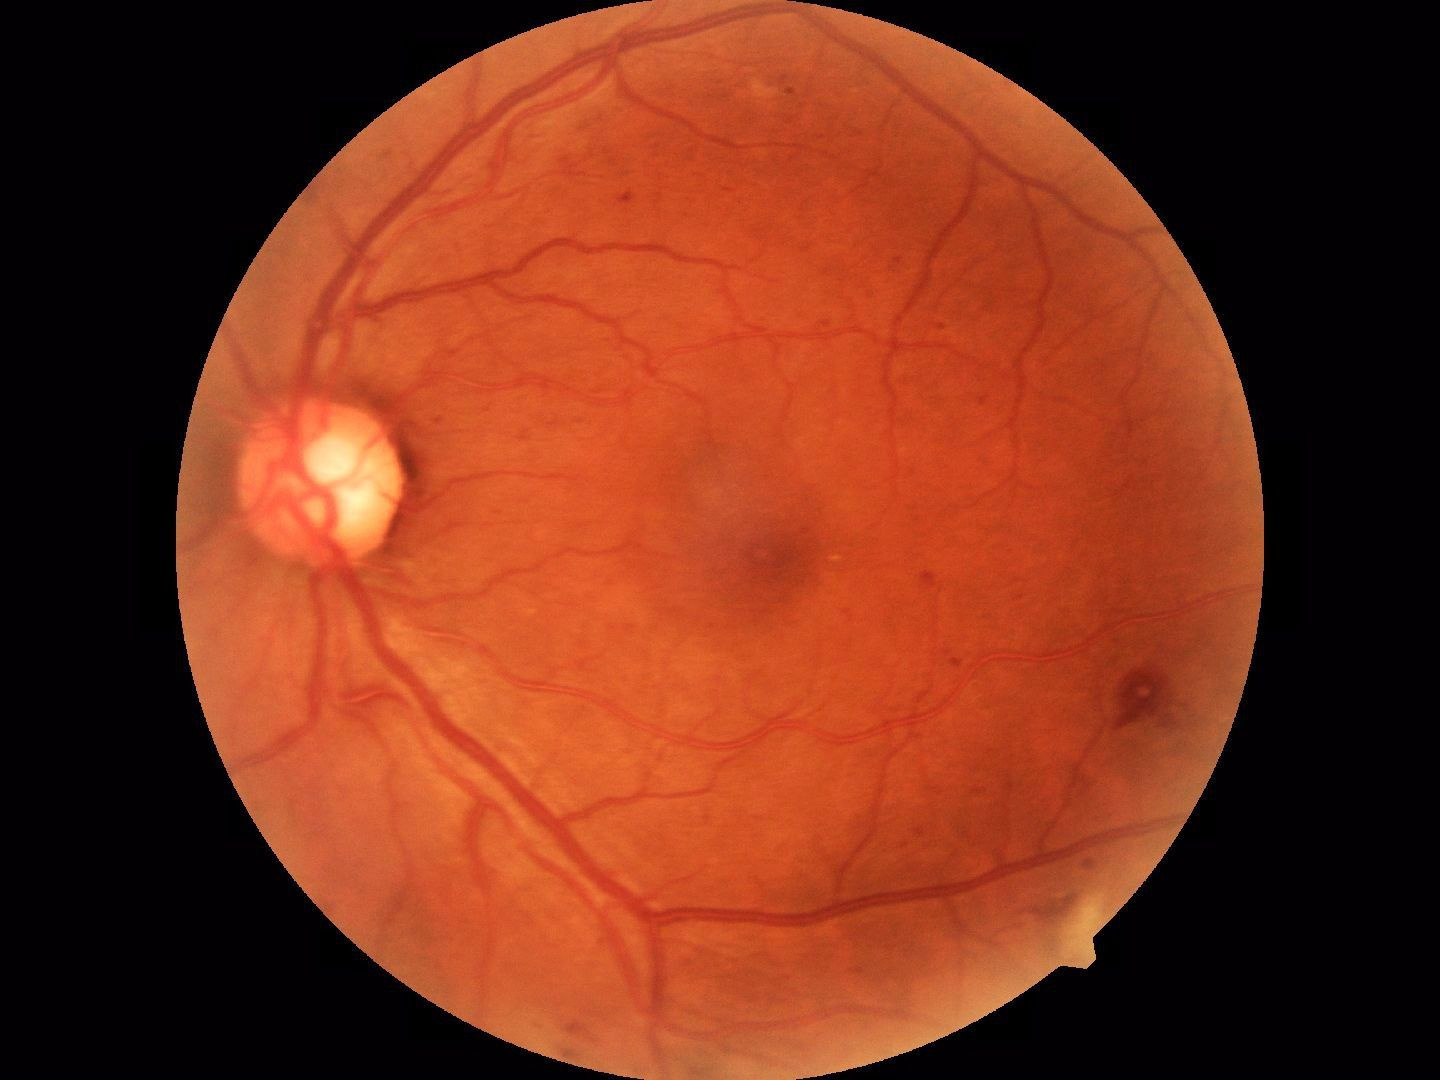Arterioles: (923, 174, 1172, 415)
Hemorrhages: (659, 439, 840, 602)
Microaneurysms: (1110, 666, 1198, 733)
Optic-Disc: (219, 372, 420, 569)
Venules: (403, 670, 594, 847), (327, 184, 414, 339)
